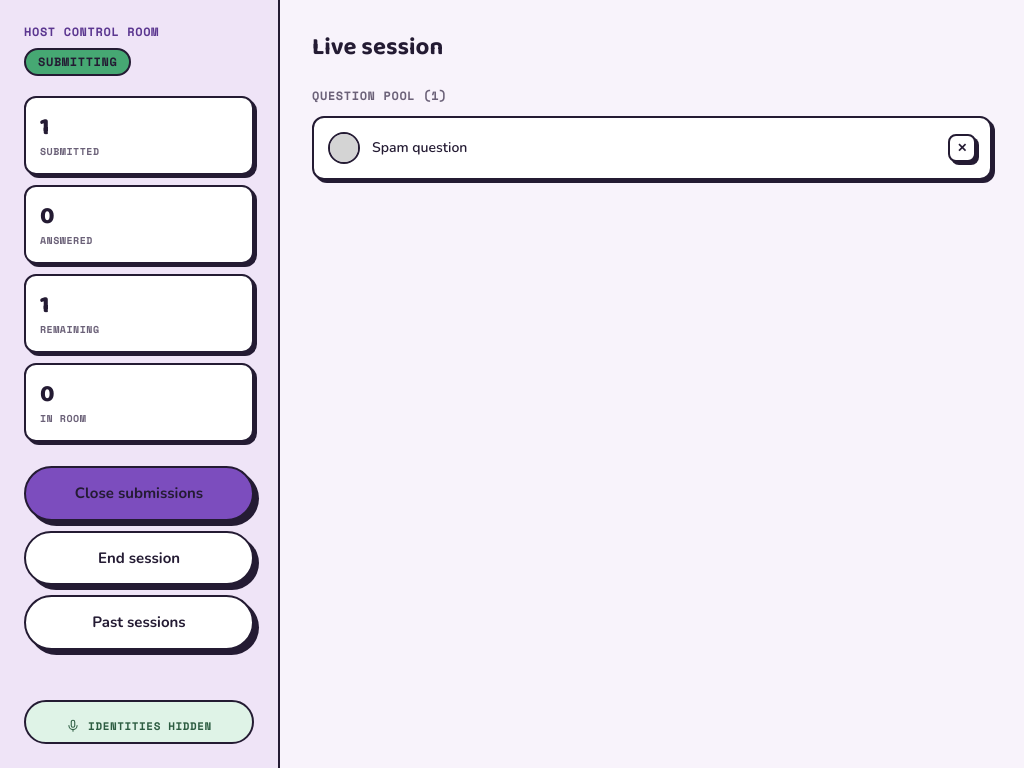
Test: HostControlView question moderation › cancels the removal when Keep is chosen
This screenshot has width=1024, height=768.
Click the button named "Remove question": (962, 148) x1=948 y1=134 x2=976 y2=162
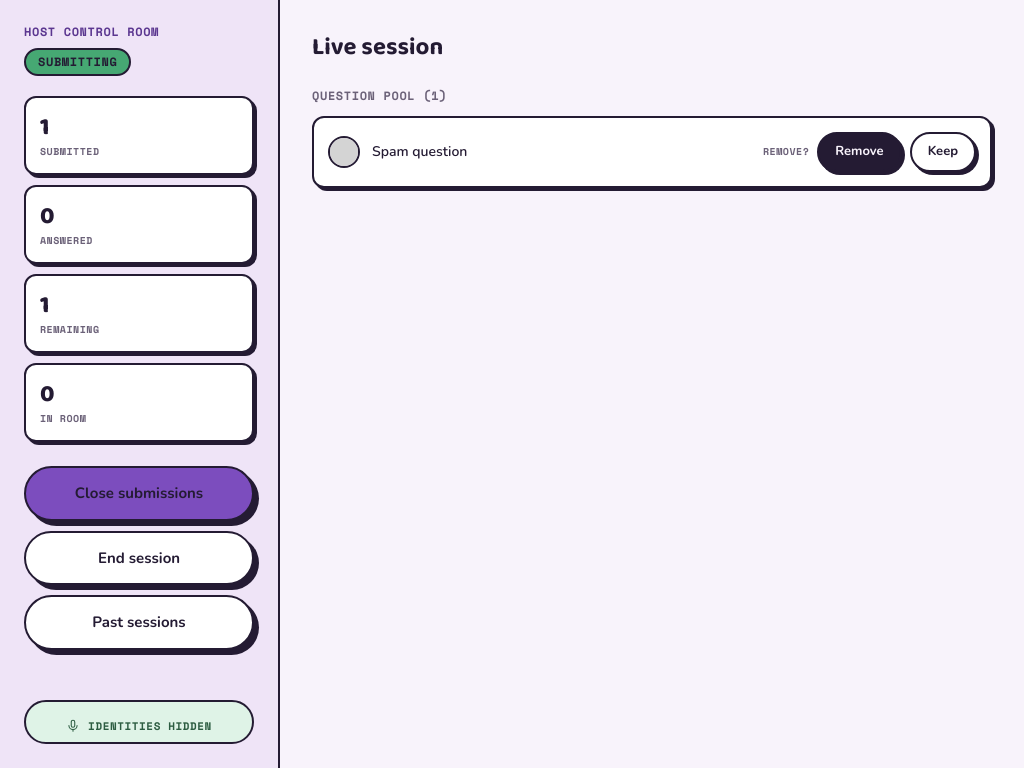
Click the button "Keep": (943, 152) x1=910 y1=132 x2=976 y2=172
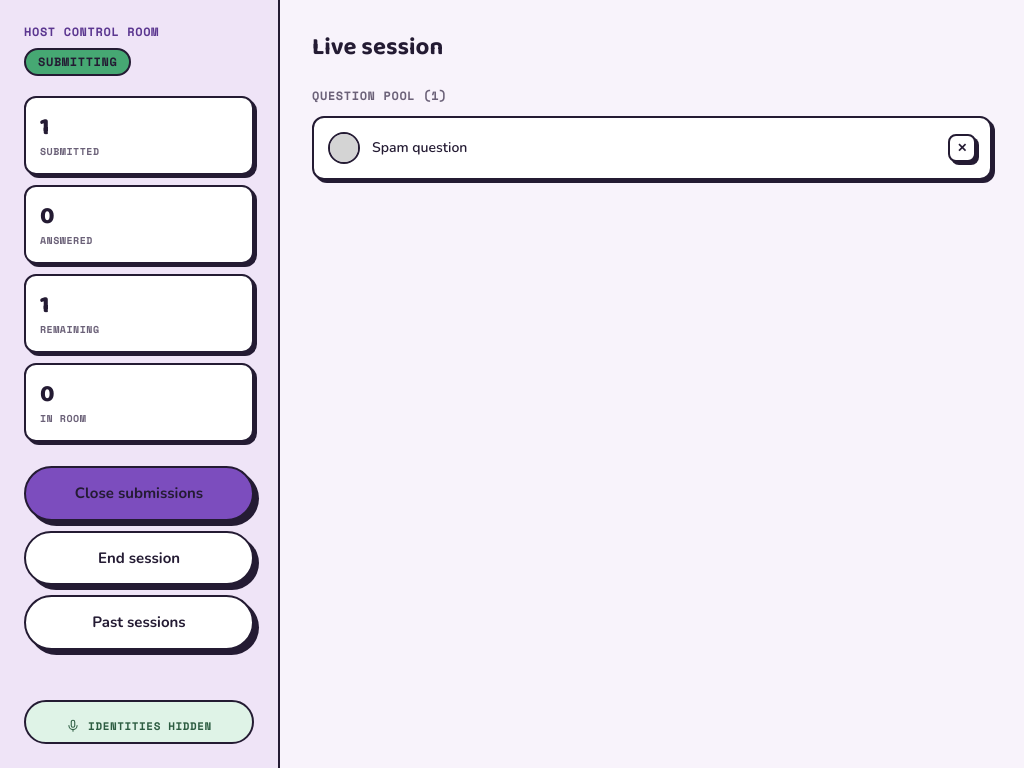
Expected: the text "Spam question" is shown, x1=372 y1=138 x2=467 y2=157
Now the text "Remove" is gone
